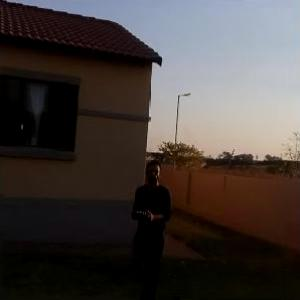follow: (115, 154, 177, 299)
